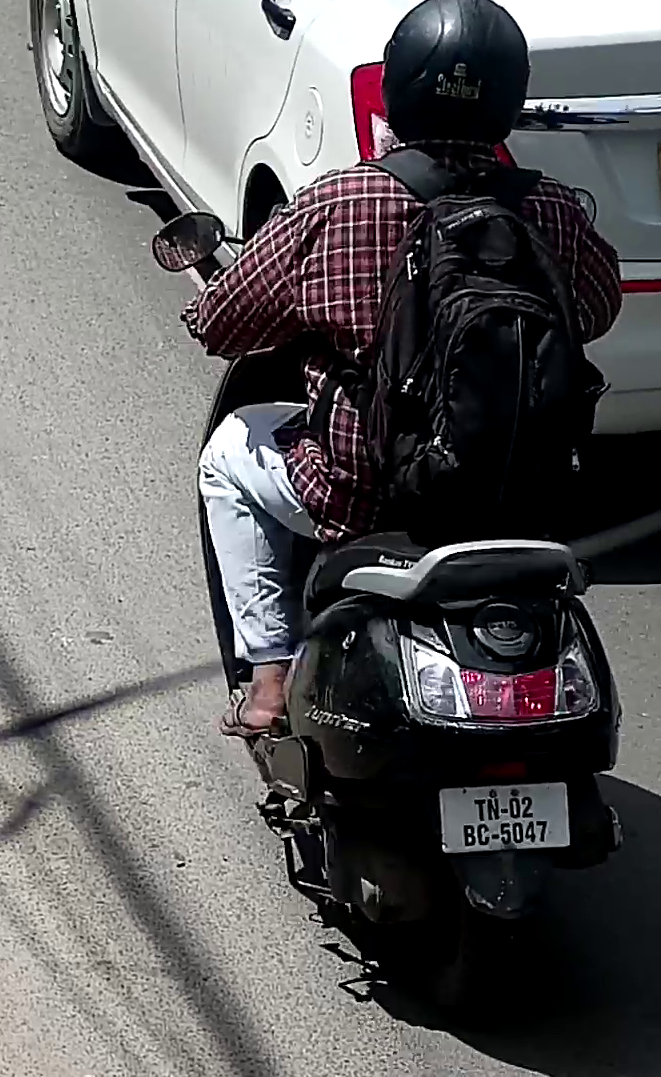-: (500, 807, 508, 814), (491, 834, 500, 840)
0: (509, 797, 521, 819), (512, 821, 524, 843)
2: (521, 796, 534, 818)
4: (525, 820, 535, 843)
5: (500, 823, 511, 845)
7: (536, 820, 549, 843)
B: (463, 824, 476, 847)
C: (477, 823, 490, 846)
N: (487, 797, 499, 821)
P16: (438, 780, 571, 857)
T: (473, 799, 486, 822)
